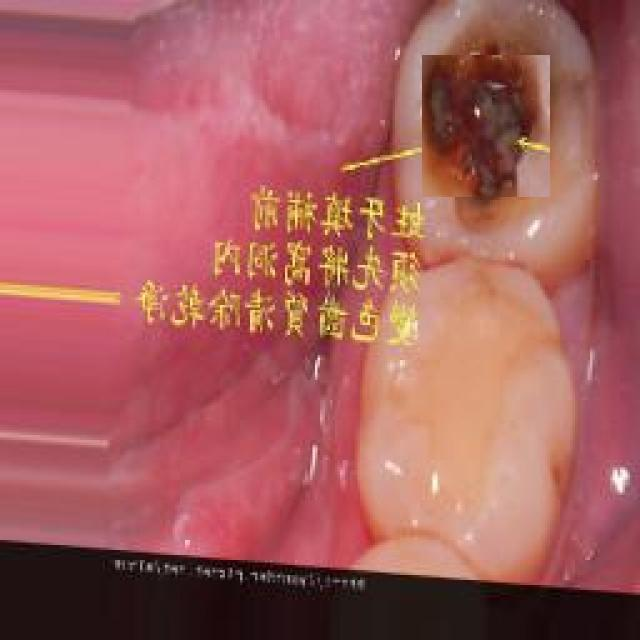caries: (422, 55, 550, 197)
